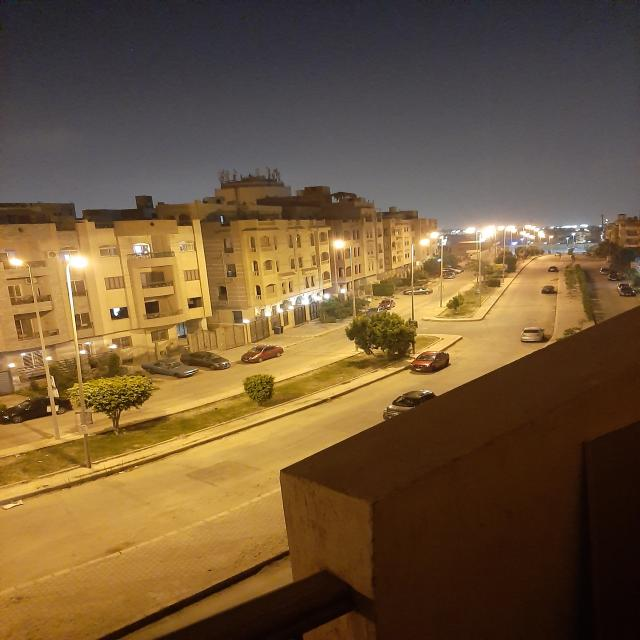Street Light: (8, 258, 60, 440), (64, 256, 96, 469), (332, 240, 358, 350), (410, 239, 430, 353), (476, 229, 492, 309), (429, 232, 444, 307), (502, 225, 514, 282)
